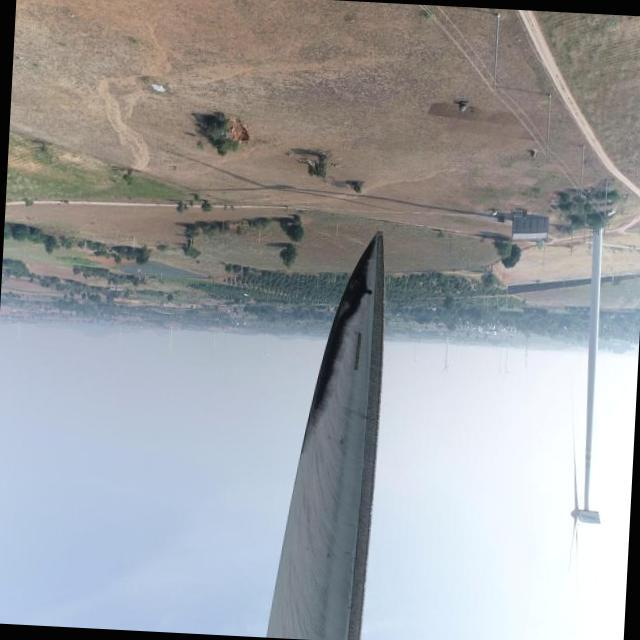Dirt: (265, 230, 382, 640)
Oil LEAKAGE: (302, 228, 381, 445)
Pin Hole: (364, 280, 377, 300)
